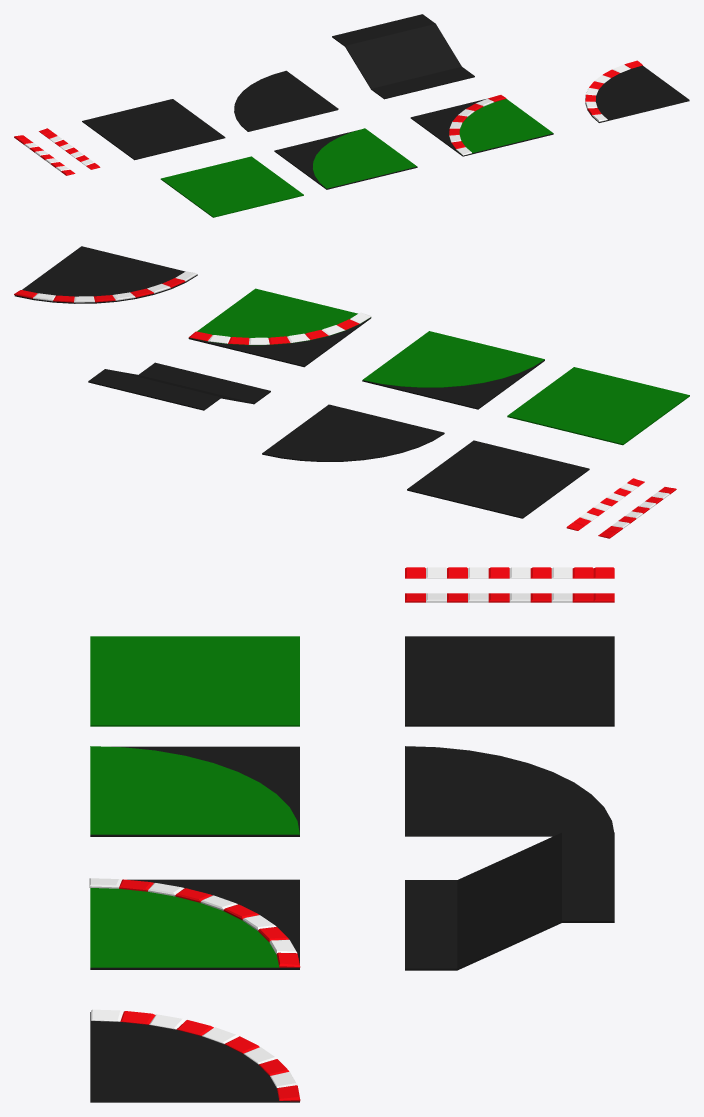
Rendered from banana kart track.fbx.
3 renders of one model, top to bottom at view 1: azimuth 30°, elevation 25°; view 2: azimuth 150°, elevation 25°; view 3: azimuth 270°, elevation 25°, orthographic. The views are drawn at different scales.
Visible parts, largest first — view 1: Cube.005, Cube.009, Cube.001, Cube.007, Cube.008, Cylinder.001, Cylinder.002; view 2: Cube.009, Cube.007, Cube.001, Cube.008, Cylinder.001, Cylinder.002, Cube.005; view 3: Cube.005, Cube.001, Cube.007, Cube.009, Cube.008, Cylinder.001, Cylinder.002.
Part boxes in pixels (box(x1,y1,x2,y2)): Cube.005: box(332, 14, 474, 99); Cube.009: box(274, 128, 417, 189); Cube.001: box(160, 156, 303, 217); Cube.007: box(82, 99, 225, 160); Cube.008: box(410, 99, 553, 156); Cylinder.001: box(234, 70, 338, 131); Cylinder.002: box(585, 65, 689, 122); Cube.009: box(362, 331, 544, 409); Cube.007: box(407, 440, 589, 518); Cube.001: box(507, 367, 689, 445); Cube.008: box(188, 288, 371, 367); Cylinder.001: box(262, 404, 444, 461); Cylinder.002: box(14, 246, 197, 303); Cube.005: box(88, 362, 270, 410); Cube.005: box(405, 832, 614, 970); Cube.001: box(90, 636, 299, 726); Cube.007: box(405, 636, 614, 726); Cube.009: box(90, 746, 299, 836); Cube.008: box(90, 879, 299, 969); Cylinder.001: box(405, 746, 614, 836); Cylinder.002: box(90, 1012, 299, 1102).
Bounding box in the file's own units: 12011 × 520 × 5009.
